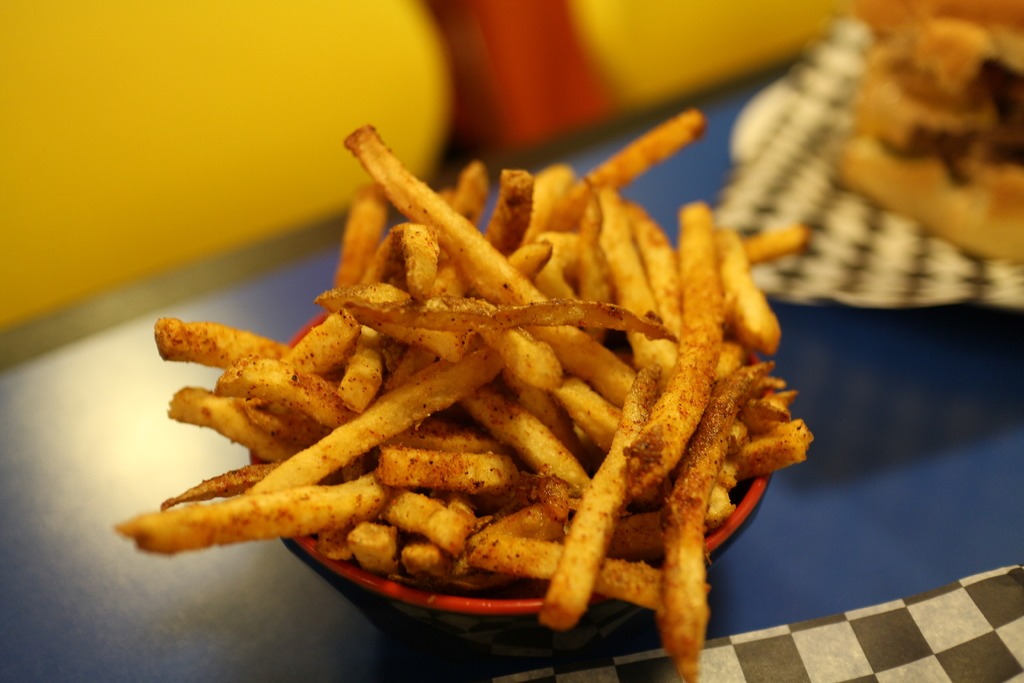French fries: (147, 126, 811, 656)
